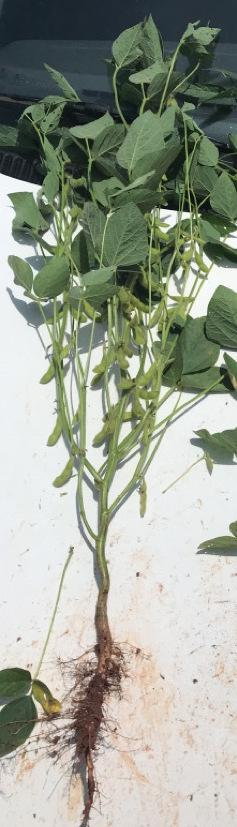soja: (51, 458, 82, 491), (136, 480, 164, 516), (38, 360, 63, 395), (126, 291, 154, 322), (145, 215, 172, 246), (91, 348, 118, 374), (45, 423, 68, 453), (84, 297, 105, 329), (135, 385, 162, 408), (102, 407, 121, 439), (114, 349, 137, 375), (194, 252, 215, 278), (46, 308, 67, 333), (180, 242, 199, 267), (66, 305, 87, 327), (94, 424, 111, 448), (119, 336, 134, 359), (91, 371, 106, 389), (68, 177, 85, 191), (68, 201, 82, 216)
